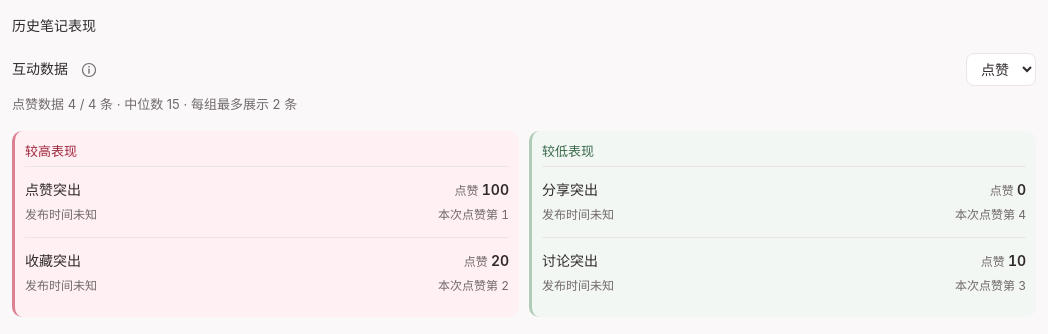
keeps the display limit visible and explains the metrics on hover or focus
The width and height of the screenshot is (1048, 334).
Expected: the heading "历史笔记表现" is shown, 12,17 -> 96,34
Expected: the heading "较高表现" is shown, 25,143 -> 77,159
Hover over the button named "笔记表现数据说明" at (88, 70), box 76,57 -> 102,83
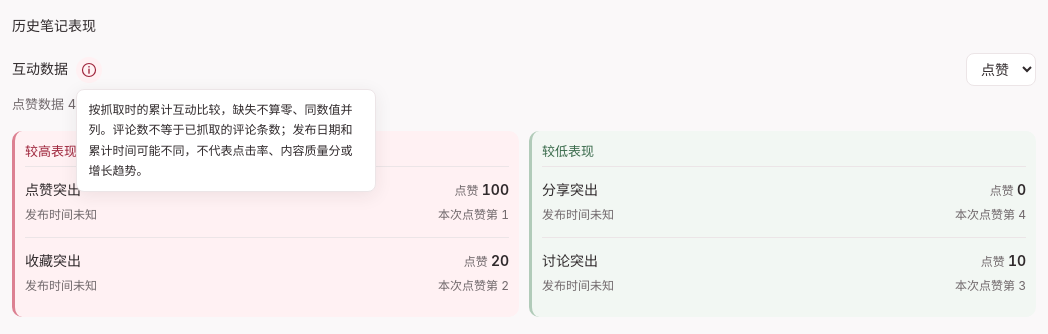
Result: the tooltip shows "缺失不算零、同数值并列" at 88,102 -> 352,178
Result: the tooltip shows "不代表点击率、内容质量分或增长趋势" at 88,102 -> 352,178
Move the pointer off the button named "笔记表现数据说明", box 76,57 -> 102,83
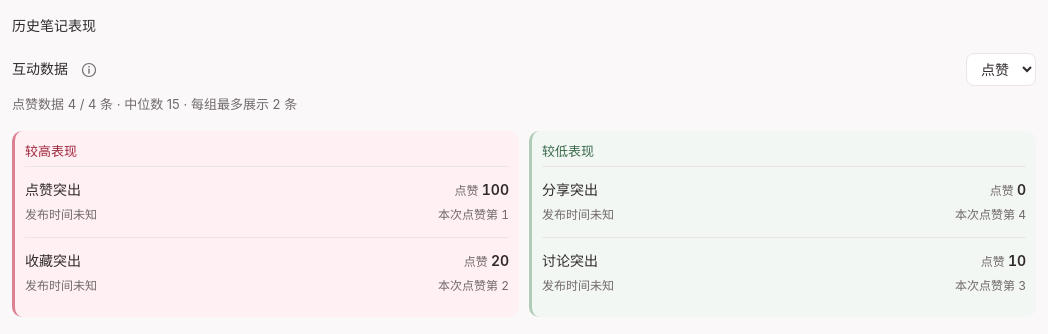
Result: the tooltip "按抓取时的累计互动比较，缺失不算零、同数值并列。评论数不等于已抓取的评论条数；发布日期和累计时间可能不同，不代表点击率、内容质量分或增长趋势。" is gone
Focus the button named "笔记表现数据说明" at (88, 70), box 76,57 -> 102,83
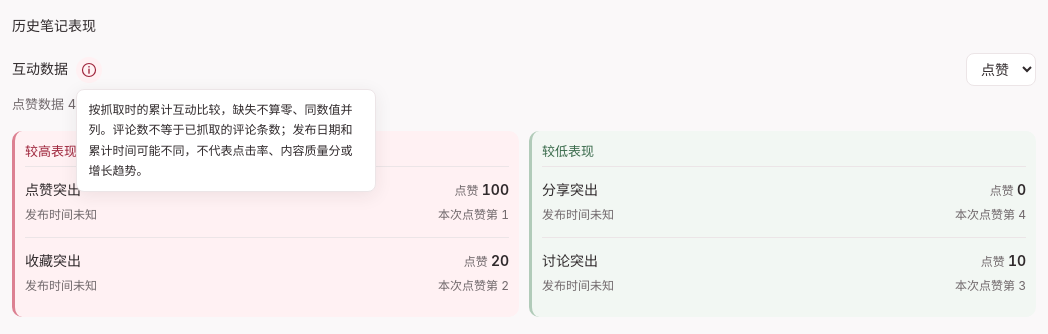
Expected: the message shows "点赞数据 4 / 4 条 · 中位数 15", 12,96 -> 180,112
Result: the tooltip is shown at 76,89 -> 376,192
